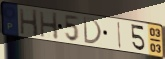5: (62, 14, 81, 43), (130, 23, 146, 51)
D: (82, 16, 103, 46)
H: (38, 10, 60, 42), (18, 8, 40, 39)
I: (117, 20, 122, 49)
